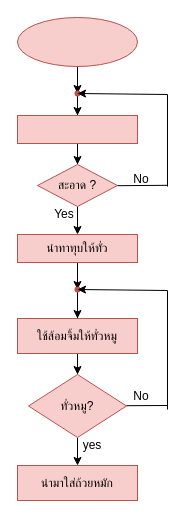
Some shapes in this 193 by 518 pixel diagram are drawn without their labels. The centre of each missing label's shape, as x and y in pixels:
ล้างสันคอหมู: point 77,129
เริ่มเตรียมวัตถุดิบ: point 77,41
